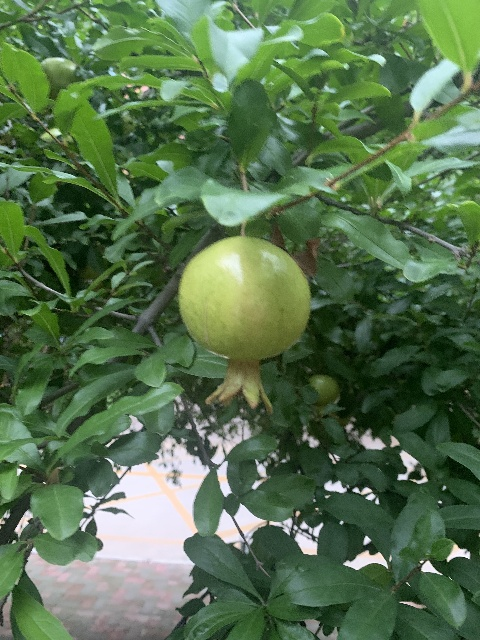mid-growth: (177, 235, 311, 413), (40, 57, 79, 99), (307, 374, 339, 420)
